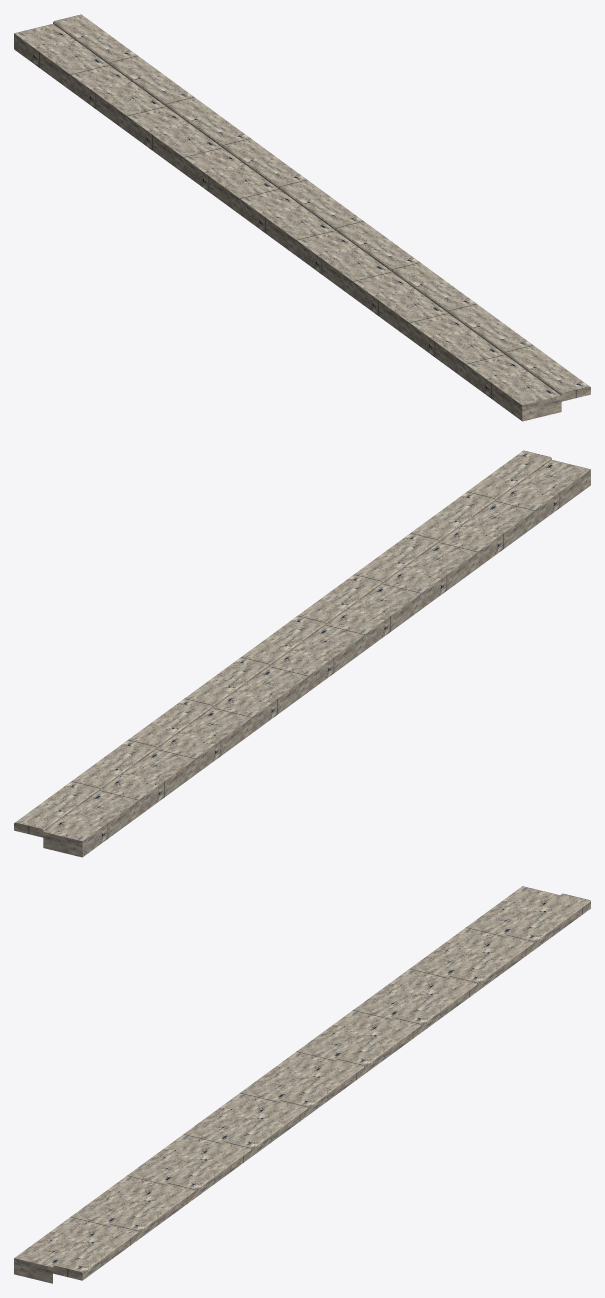
The model's file is SM_Pav_Cordolo_9m_LOD1.fbx.
3 renders of one model, top to bottom at view 1: azimuth 30°, elevation 25°; view 2: azimuth 150°, elevation 25°; view 3: azimuth 330°, elevation 25°, orthographic.
Parts seen in each view (by area): view 1: SM_Pav_Cordolo_9m_LOD1; view 2: SM_Pav_Cordolo_9m_LOD1; view 3: SM_Pav_Cordolo_9m_LOD1.
Part boxes in pixels (<box>): SM_Pav_Cordolo_9m_LOD1: <box>14,14,590,421</box>; SM_Pav_Cordolo_9m_LOD1: <box>14,450,590,857</box>; SM_Pav_Cordolo_9m_LOD1: <box>14,886,590,1283</box>.
Size of the model in its own units: 70 by 900 by 18.
1 material, 1 textured.
